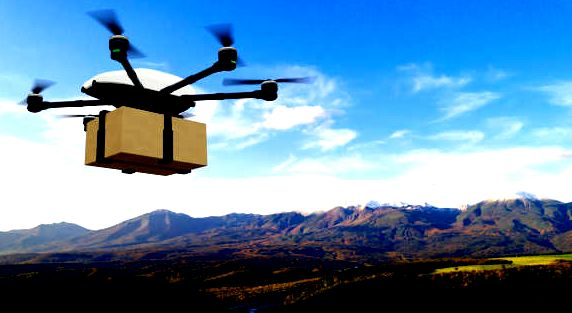Drone: (17, 6, 318, 127)
